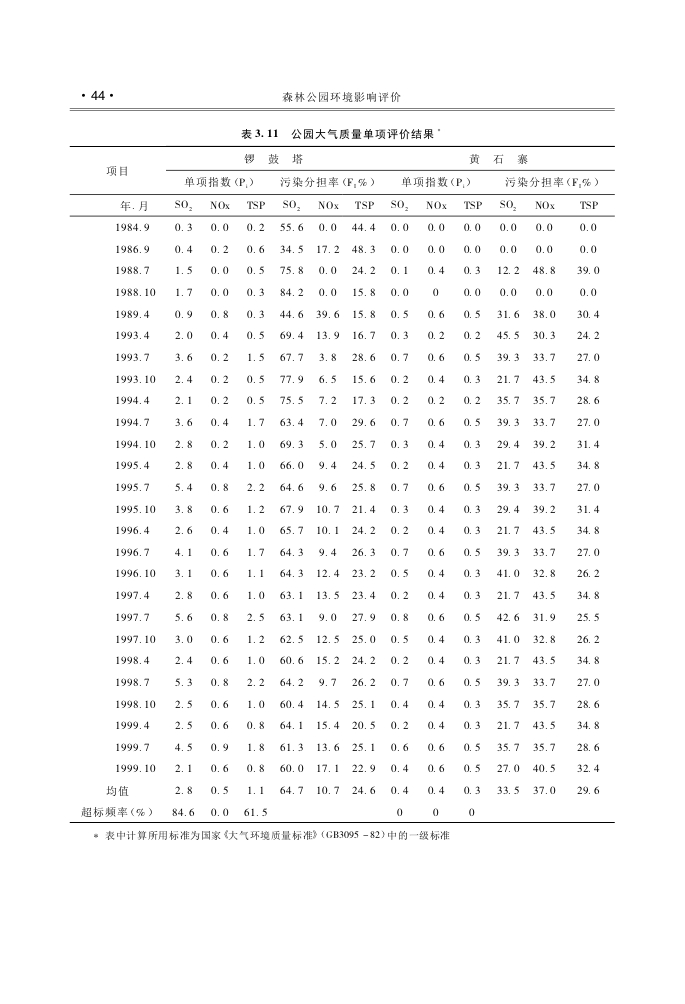table: (69, 145, 615, 823)
